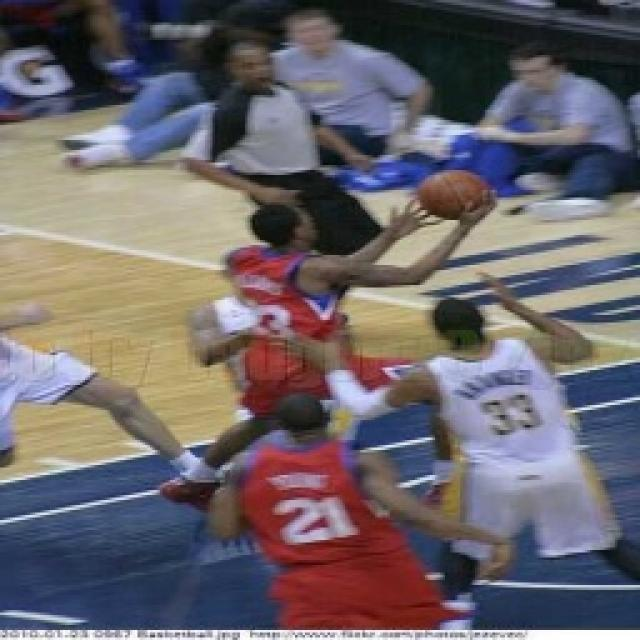rim: (417, 164, 488, 219)
